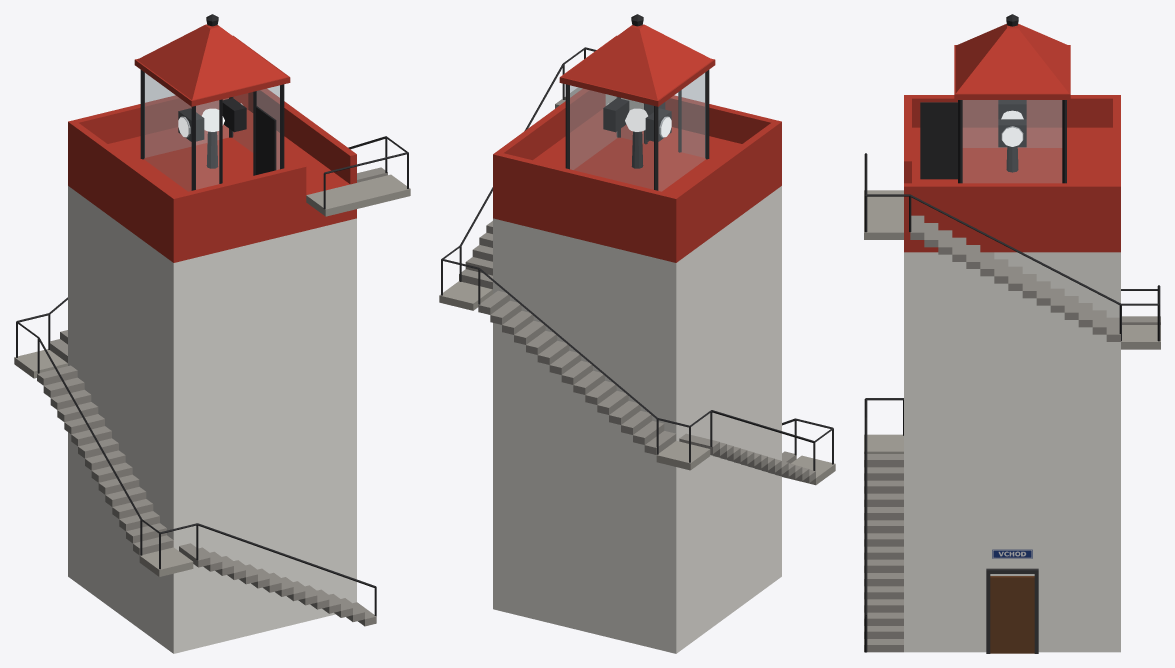
Rendered from majak_hranaty.glb.
The picture shows the model from 3 angles, left to right: view 1: azimuth 30°, elevation 25°; view 2: azimuth 150°, elevation 25°; view 3: azimuth 270°, elevation 25°; orthographic projection. The views are drawn at different scales.
Visible parts, largest first — view 1: majak, reflektor; view 2: majak, reflektor; view 3: majak, reflektor.
Part boxes in pixels (left/top/right/bottom): majak: left=14, top=14, right=410, bottom=653; reflektor: left=178, top=98, right=246, bottom=141; majak: left=439, top=14, right=835, bottom=653; reflektor: left=603, top=98, right=671, bottom=141; majak: left=864, top=14, right=1160, bottom=653; reflektor: left=998, top=100, right=1026, bottom=147.
Bounding box in the file's own units: 7.4 × 16.29 × 7.4.
Materials: 4 (2 with a texture image).
